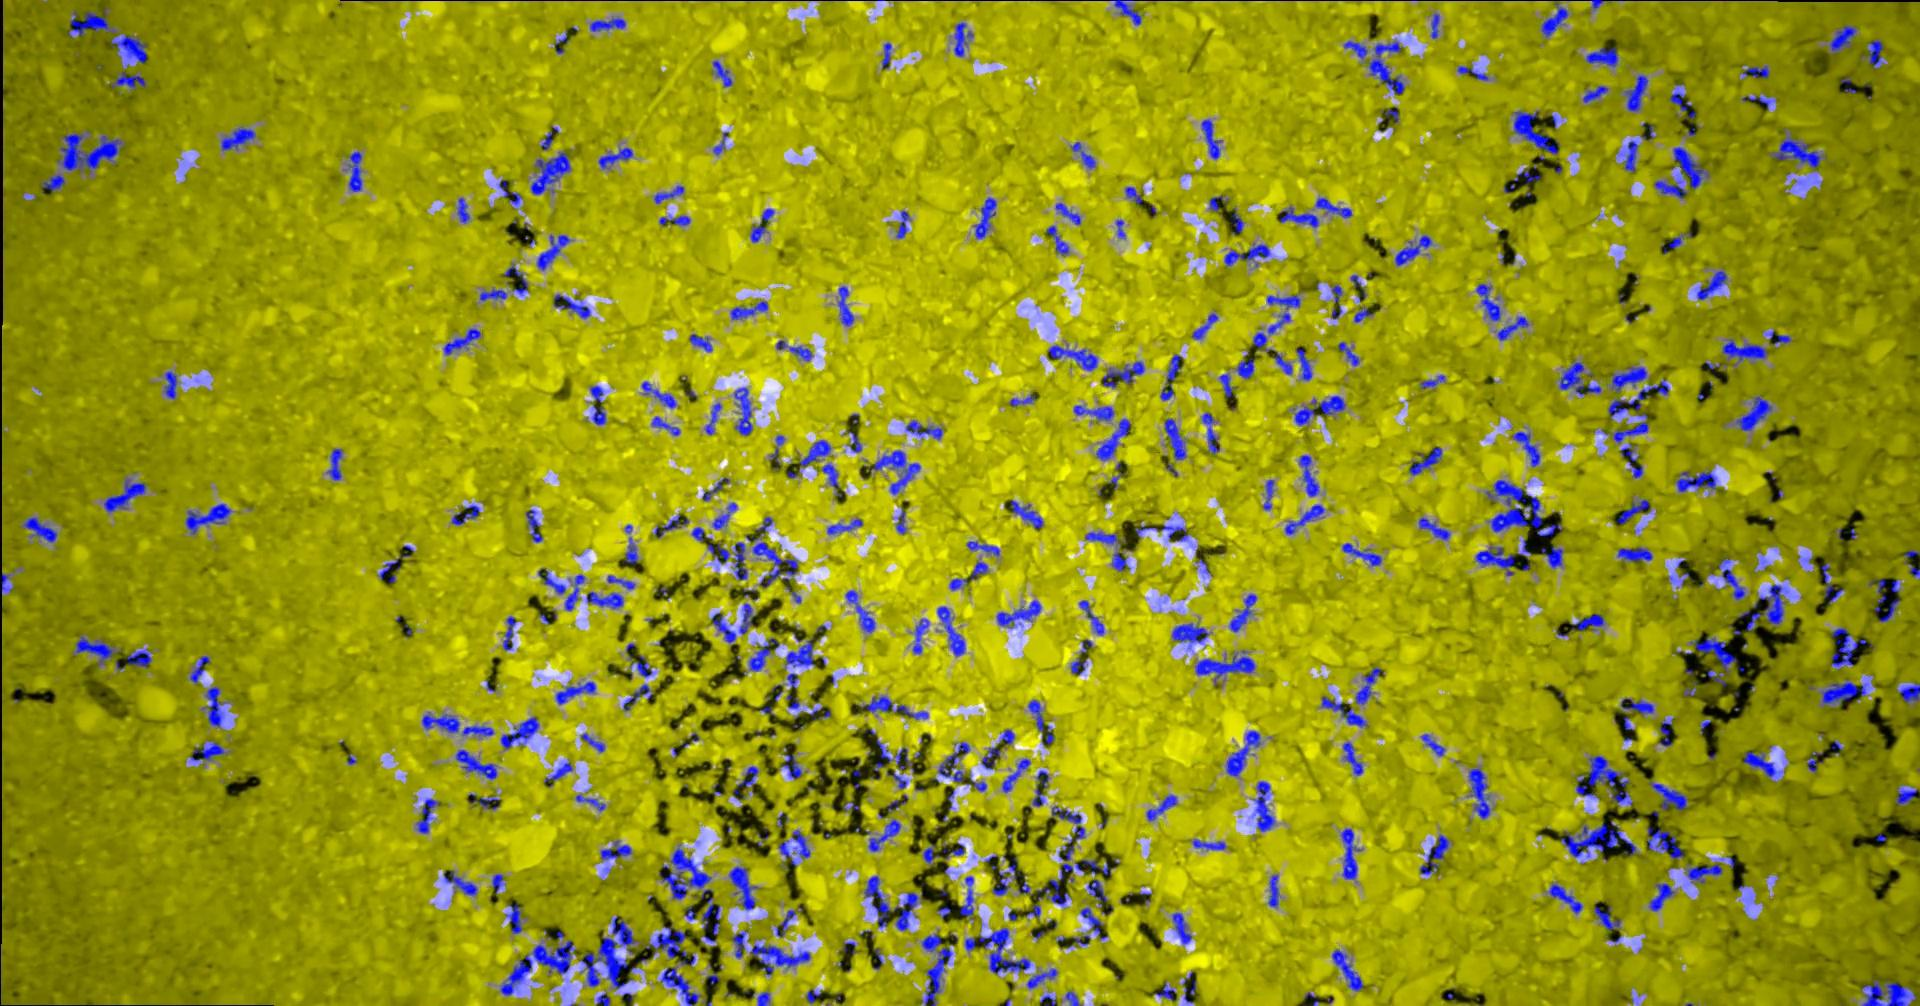ant: (1053, 807, 1114, 880), (69, 8, 149, 62), (747, 516, 799, 587), (966, 927, 1031, 973), (866, 875, 919, 930), (1577, 754, 1634, 805), (660, 847, 714, 899), (1691, 638, 1746, 685), (865, 448, 921, 494), (1609, 379, 1670, 417), (1738, 584, 1785, 630), (1476, 539, 1531, 575), (646, 925, 696, 965), (1369, 41, 1406, 94), (750, 944, 811, 976), (1515, 111, 1561, 152), (532, 151, 571, 194), (712, 603, 757, 641), (923, 948, 952, 1005), (1227, 730, 1262, 776), (1255, 332, 1293, 373), (1196, 650, 1256, 677), (1674, 146, 1710, 189), (861, 696, 930, 719), (1832, 627, 1873, 666), (1774, 137, 1823, 168), (1297, 395, 1346, 426), (662, 967, 701, 1005), (1323, 695, 1369, 727), (938, 606, 968, 655), (1561, 361, 1603, 395), (1097, 418, 1131, 460), (187, 503, 232, 533), (1863, 979, 1917, 1005), (105, 478, 147, 511), (1029, 699, 1057, 746), (693, 527, 730, 563), (940, 742, 971, 782), (1333, 949, 1365, 989), (1269, 295, 1302, 333), (998, 600, 1043, 627), (77, 636, 122, 664), (847, 589, 876, 631), (538, 234, 571, 271), (502, 716, 540, 748), (457, 749, 498, 779), (1738, 396, 1773, 431), (1648, 827, 1685, 859), (1050, 345, 1098, 370), (731, 866, 758, 909), (1286, 504, 1326, 533), (1421, 835, 1450, 874), (1396, 235, 1432, 265), (1103, 361, 1145, 387), (1719, 558, 1746, 600), (1745, 751, 1785, 777), (1823, 678, 1868, 702), (1230, 593, 1258, 631), (1651, 782, 1689, 810), (1225, 243, 1271, 265), (1512, 431, 1542, 466), (1357, 667, 1385, 704), (444, 328, 483, 354), (870, 819, 902, 851), (1470, 768, 1491, 818), (1550, 883, 1583, 913), (1003, 758, 1032, 793), (1723, 338, 1769, 359), (1822, 561, 1845, 605), (1505, 169, 1542, 196), (787, 636, 819, 667), (1342, 828, 1361, 879), (1410, 446, 1443, 475), (1543, 0, 1570, 36), (1613, 366, 1648, 392), (1257, 781, 1276, 831), (1477, 283, 1502, 320), (1162, 354, 1182, 400), (750, 638, 780, 669), (1011, 500, 1044, 528), (24, 516, 58, 542), (1175, 622, 1210, 648), (1343, 542, 1383, 565), (557, 681, 597, 704), (1625, 74, 1650, 111), (555, 293, 592, 318), (800, 439, 832, 467), (977, 197, 998, 238), (1166, 418, 1187, 459), (643, 381, 677, 406), (444, 870, 479, 895), (1698, 271, 1728, 298), (1281, 206, 1321, 227), (1618, 499, 1651, 525), (1037, 879, 1070, 904), (737, 387, 754, 434), (222, 126, 257, 150), (1081, 600, 1105, 634), (1677, 471, 1718, 492), (1148, 794, 1178, 821), (418, 798, 441, 833), (1082, 907, 1109, 937), (1203, 412, 1222, 453), (1302, 453, 1321, 495), (735, 766, 759, 799), (1137, 525, 1189, 540), (1622, 443, 1644, 478), (625, 683, 654, 710), (204, 686, 223, 727), (1111, 0, 1143, 24), (1498, 316, 1530, 340), (657, 514, 690, 537), (1615, 420, 1650, 442), (1203, 119, 1222, 158), (1317, 197, 1352, 217), (1831, 25, 1857, 53), (505, 265, 530, 295), (538, 569, 568, 593), (907, 420, 943, 439), (599, 147, 634, 168), (1420, 517, 1451, 539), (1072, 141, 1097, 168), (731, 301, 770, 319), (1194, 312, 1219, 339), (778, 340, 814, 359), (566, 574, 585, 610), (423, 714, 461, 732), (1651, 883, 1676, 909), (546, 762, 574, 786), (1343, 742, 1364, 775), (1048, 225, 1070, 254), (588, 591, 625, 608), (703, 897, 721, 934), (955, 22, 974, 56), (590, 385, 607, 424), (823, 464, 843, 495), (714, 502, 738, 528), (1595, 906, 1622, 930), (703, 478, 731, 500), (112, 71, 147, 89), (1689, 864, 1724, 882), (1589, 46, 1619, 66), (1663, 232, 1694, 253), (1034, 770, 1050, 807), (783, 747, 803, 779), (961, 876, 975, 920), (1076, 405, 1115, 420), (1029, 968, 1058, 988), (1870, 579, 1888, 612), (875, 738, 893, 771), (192, 742, 225, 760), (602, 840, 632, 859), (841, 286, 855, 326), (190, 655, 211, 683), (1656, 180, 1688, 198), (349, 151, 363, 191), (500, 179, 522, 205), (1057, 202, 1082, 224), (527, 509, 543, 542), (469, 793, 502, 809), (1175, 912, 1192, 942), (453, 506, 481, 525), (792, 829, 811, 857), (1090, 879, 1109, 907), (1297, 348, 1313, 380), (706, 403, 723, 434), (328, 448, 344, 480), (1573, 614, 1605, 630), (829, 518, 863, 533), (914, 619, 930, 653), (1338, 340, 1360, 365), (1879, 597, 1901, 621), (655, 185, 684, 203), (895, 747, 916, 772), (714, 60, 733, 86), (778, 909, 797, 936), (1622, 699, 1655, 714), (577, 794, 607, 810), (507, 903, 523, 934), (653, 417, 681, 434), (1619, 547, 1655, 561), (1542, 546, 1564, 568), (380, 558, 403, 579), (1423, 733, 1446, 754), (1625, 140, 1641, 171), (771, 434, 785, 469), (504, 616, 518, 650), (780, 840, 797, 866), (590, 18, 627, 30), (1459, 65, 1490, 80), (968, 541, 1001, 555), (1345, 39, 1369, 58), (582, 732, 606, 751), (1183, 970, 1197, 1002), (632, 655, 654, 676), (1086, 531, 1123, 542), (737, 542, 748, 579), (1583, 85, 1609, 102), (1900, 682, 1920, 702), (1671, 91, 1693, 111), (983, 747, 1002, 768), (1870, 39, 1884, 69), (542, 126, 560, 149), (733, 930, 748, 956), (128, 650, 152, 667), (1743, 95, 1771, 109), (897, 210, 910, 238), (1660, 718, 1674, 746), (994, 870, 1010, 895), (691, 333, 712, 351), (1156, 981, 1177, 998), (714, 131, 730, 154), (43, 174, 66, 191), (1897, 788, 1920, 804), (1269, 874, 1280, 907), (610, 575, 636, 589), (888, 770, 908, 788), (923, 934, 943, 951), (1421, 373, 1446, 387), (1263, 479, 1275, 509), (1743, 65, 1770, 77), (458, 197, 471, 224), (968, 774, 987, 791), (1222, 373, 1236, 398), (1238, 358, 1255, 379), (889, 794, 909, 810), (1770, 329, 1792, 344), (626, 537, 639, 563), (463, 725, 495, 735), (943, 843, 966, 857), (1010, 856, 1023, 879), (1072, 657, 1090, 674), (924, 843, 941, 862), (662, 215, 692, 225), (752, 221, 767, 241), (1355, 307, 1375, 323), (1233, 207, 1244, 234), (481, 288, 508, 300), (166, 371, 178, 398), (1011, 395, 1037, 406), (850, 431, 863, 452), (1810, 749, 1823, 771), (1128, 185, 1144, 203), (971, 561, 989, 578), (1194, 840, 1227, 848), (1211, 196, 1230, 211), (810, 708, 832, 720), (1069, 935, 1091, 948), (1383, 105, 1399, 122), (883, 42, 893, 69), (1112, 553, 1128, 570), (897, 508, 907, 533), (493, 873, 504, 894), (808, 989, 823, 1005), (1432, 13, 1441, 38), (1843, 77, 1857, 93), (1067, 991, 1082, 1005), (1, 573, 13, 591), (951, 578, 969, 589), (1685, 681, 1698, 696), (1003, 729, 1016, 744), (1333, 285, 1343, 302), (1117, 218, 1126, 238), (844, 941, 857, 954), (789, 694, 800, 708), (759, 991, 771, 1005), (598, 993, 611, 1005), (763, 208, 775, 220)
